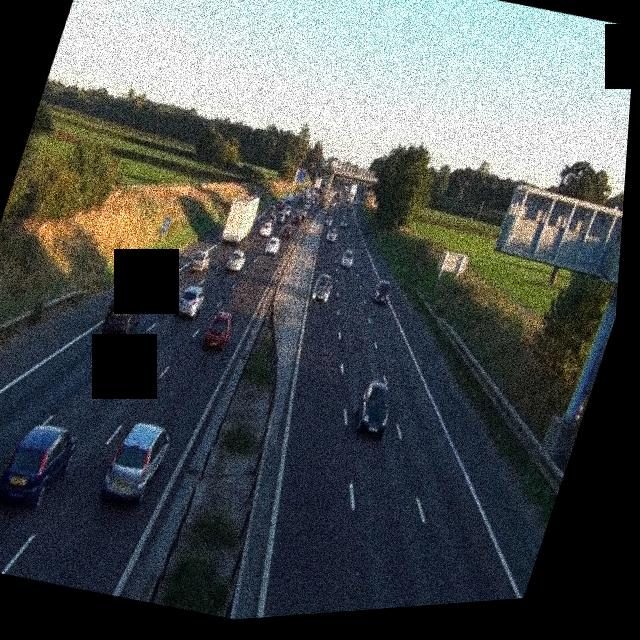car: (0, 414, 82, 517), (97, 415, 174, 511), (348, 374, 400, 442), (99, 284, 150, 339), (200, 306, 237, 352), (173, 280, 209, 322), (309, 272, 336, 305), (187, 244, 215, 275), (370, 276, 394, 305), (225, 246, 247, 273), (338, 247, 357, 269), (264, 234, 281, 256), (257, 219, 274, 239), (280, 221, 295, 240), (323, 226, 338, 243), (337, 213, 349, 230), (323, 210, 335, 225)
truck: (217, 192, 259, 248), (342, 184, 358, 209)
